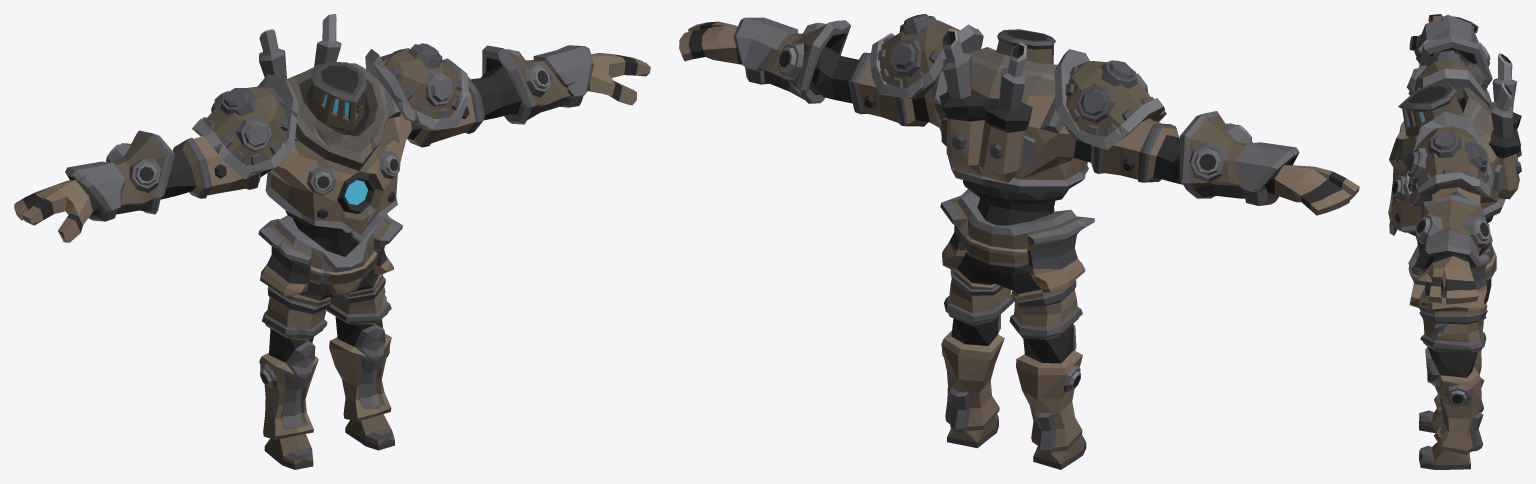
Rendered from Boss1.fbx.
The picture shows the model from 3 angles, left to right: view 1: azimuth 30°, elevation 25°; view 2: azimuth 150°, elevation 25°; view 3: azimuth 270°, elevation 25°; orthographic projection. The views are drawn at different scales.
Visible parts, largest first — view 1: Character_MechanicalGolem_01; view 2: Character_MechanicalGolem_01; view 3: Character_MechanicalGolem_01.
Boxes of the visible parts, x1,y1,x2,y2 form: Character_MechanicalGolem_01: (14, 14, 650, 469); Character_MechanicalGolem_01: (679, 14, 1359, 469); Character_MechanicalGolem_01: (1388, 14, 1521, 469).
Bounding box in the file's own units: 28892 × 17909 × 5765.
Materials: 1 (1 with a texture image).
